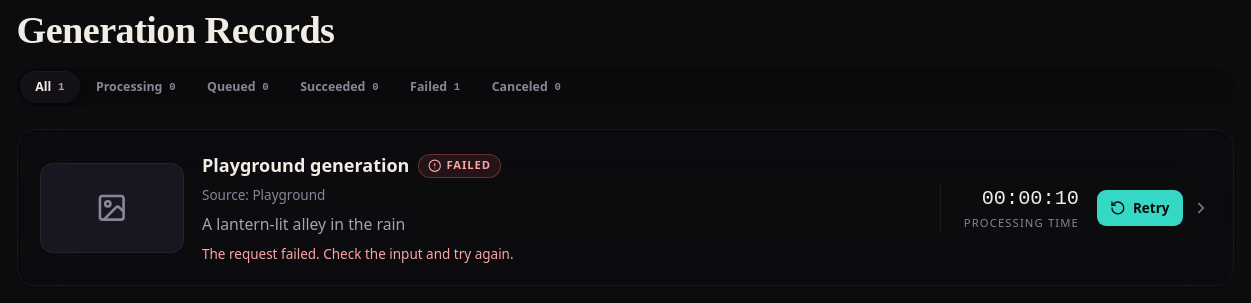
Generation Records dashboard › does not let an older list response overwrite a restored failure
expect the heading "Playground generation" is shown: met, box [202,152,409,179]
expect the button "Playground generation" is shown: met, box [16,129,1234,286]
Click the button "Retry" at (1140, 208), box [1097,190,1183,226]
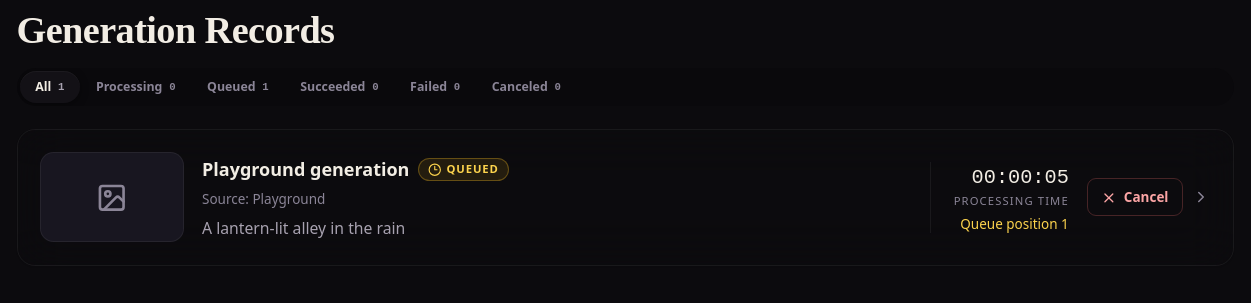
expect the text "Queued" is shown: met, box [418,158,509,181]
Click the button "Cancel" at (1135, 197), box [1087,178,1183,216]
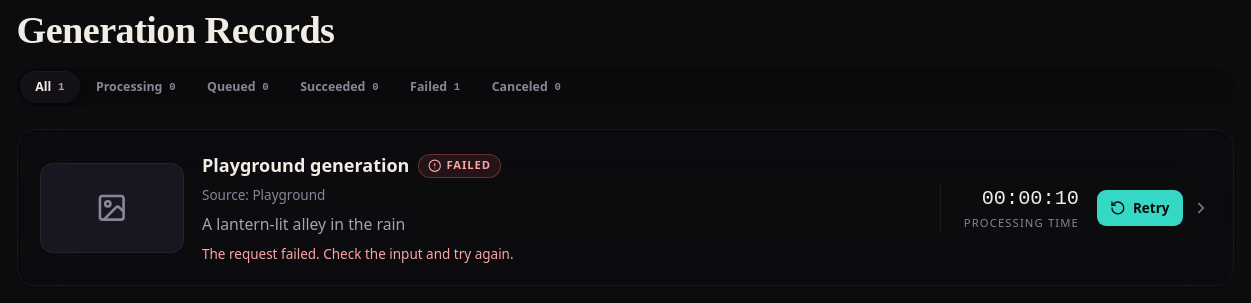
expect the text "Failed" is shown: met, box [418,154,501,178]
expect the text "The request failed. Check the input and try again." is shown: met, box [202,245,514,263]
expect the button "Retry" is shown: met, box [1097,190,1183,226]
